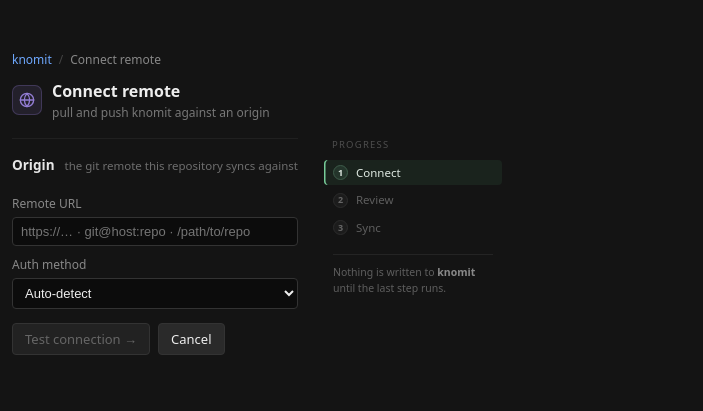
Scenario: RemoteConnectWizard › advances Connect→Review on a successful test and hides the strategy picker for shared history
Type "https://example.com/repo.git" into the field with test id "wizard-url" at (155, 232), box [12,217,298,246]
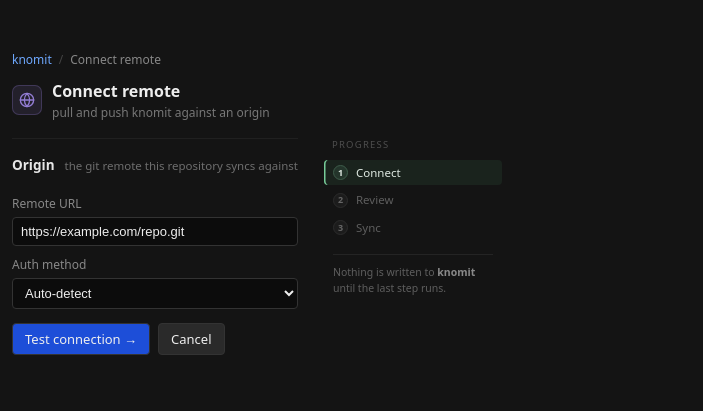
Click the button with test id "wizard-test" at (81, 339), box [12,323,150,355]
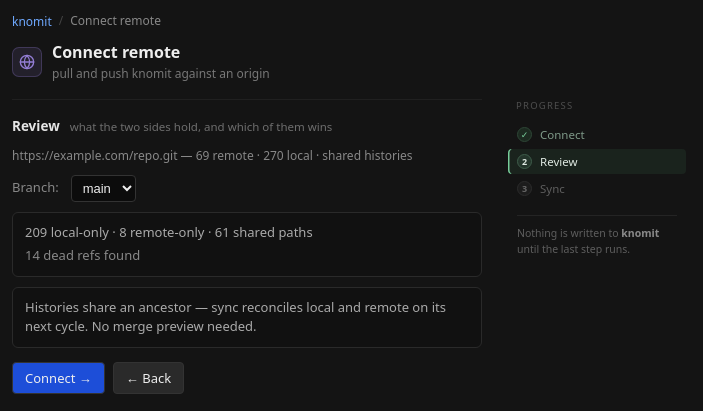
Check: the button with test id "wizard-connect" is shown, box [12,362,105,394]
Check: the text "shared histories" is shown, box [12,147,482,165]
